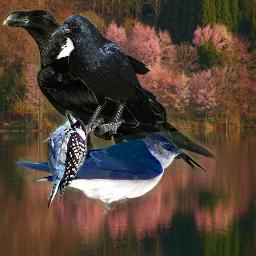Crow: (1, 9, 217, 192), (50, 14, 156, 137)
Swallow: (14, 132, 186, 217)
Woodpecker: (32, 107, 94, 215)
